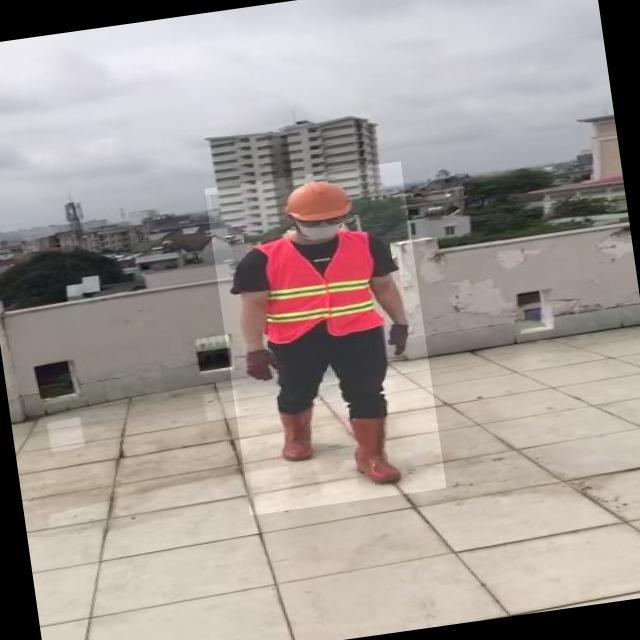Gloves: (245, 346, 282, 385), (389, 322, 413, 355)
Helmet: (271, 173, 360, 229)
Human: (205, 161, 447, 516)
Safety Boot: (346, 410, 408, 491), (277, 405, 322, 465)
Safety Vest: (257, 230, 386, 346)
